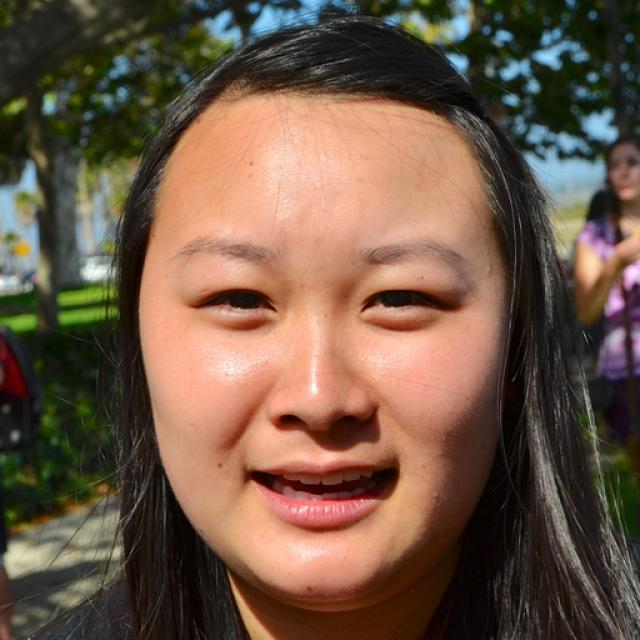Acne: (428, 486, 446, 505), (426, 445, 450, 459)
